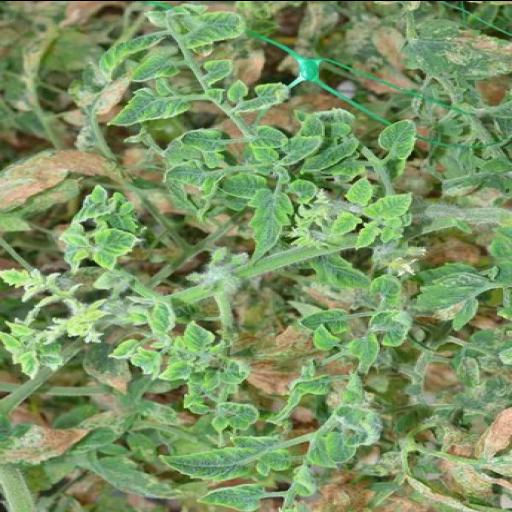Yellow Leaf Curl Virus: (108, 79, 192, 127), (244, 188, 294, 267), (156, 443, 258, 481), (177, 10, 251, 48), (227, 78, 293, 114), (191, 482, 270, 512), (184, 303, 221, 365), (375, 117, 419, 163), (364, 308, 414, 346), (212, 171, 272, 202), (158, 158, 216, 190), (142, 290, 178, 340), (367, 187, 417, 223), (271, 132, 323, 166), (330, 196, 366, 240), (86, 230, 152, 254), (296, 308, 356, 334), (174, 126, 230, 152), (248, 122, 291, 152), (202, 55, 234, 84)
